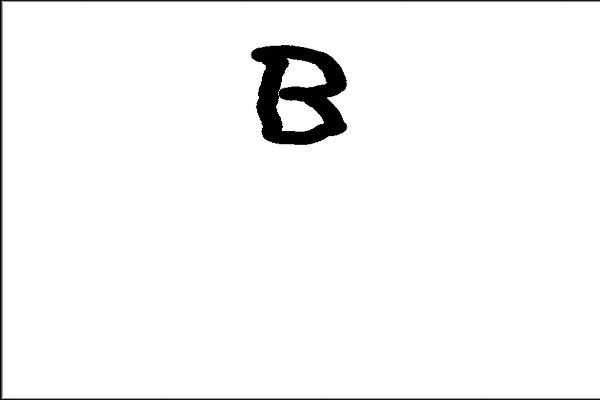B: (241, 33, 362, 154)
